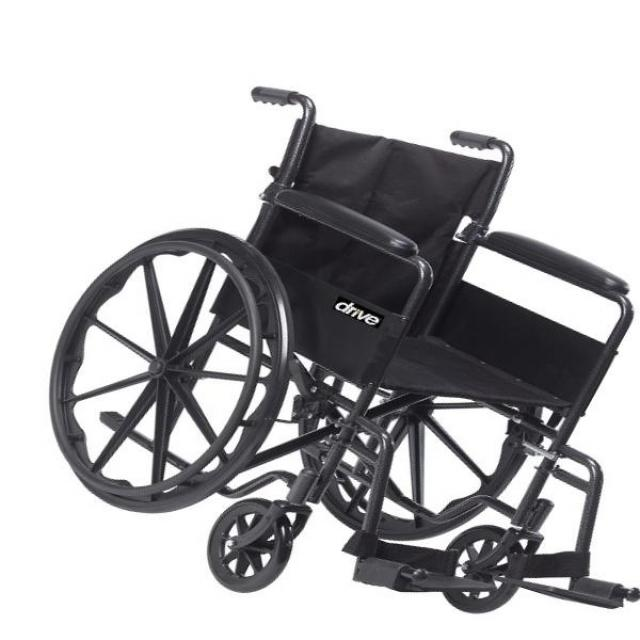wheelchair: (31, 66, 640, 621)
